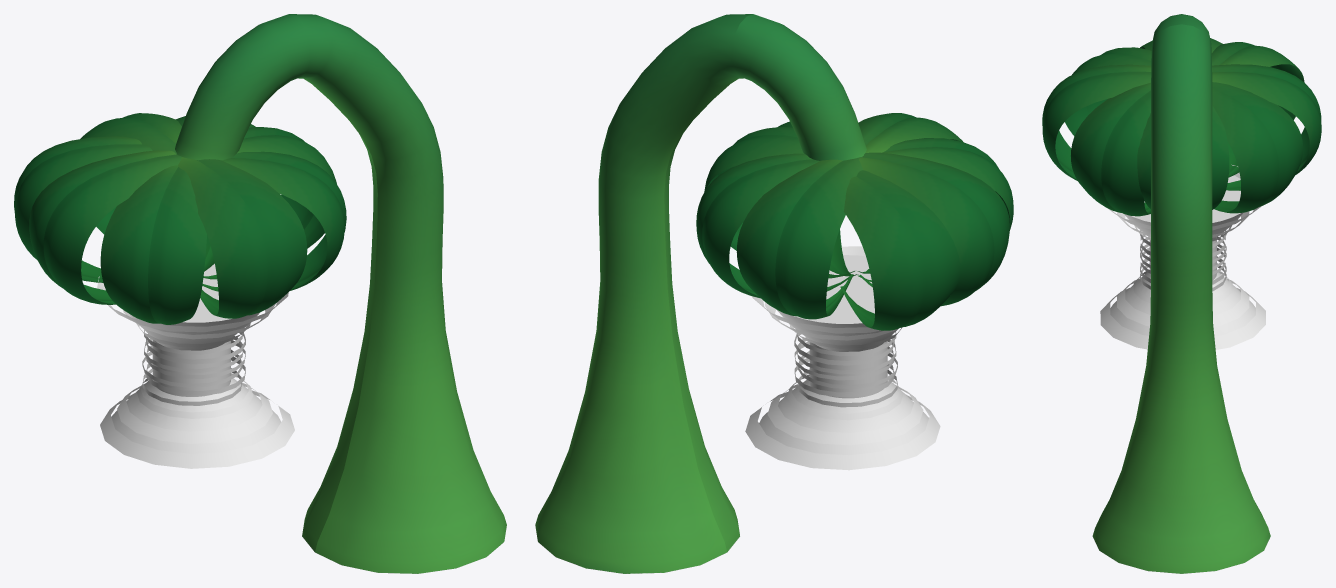
The model's file is Tornado_Flower.fbx.
3 renders of one model, left to right at view 1: azimuth 30°, elevation 25°; view 2: azimuth 150°, elevation 25°; view 3: azimuth 270°, elevation 25°, orthographic. The views are drawn at different scales.
Visible parts, largest first — view 1: TornadoBody; view 2: TornadoBody; view 3: TornadoBody.
Part boxes in pixels (x1=…): TornadoBody: x1=14, y1=14, x2=506, y2=573; TornadoBody: x1=535, y1=14, x2=1013, y2=573; TornadoBody: x1=1042, y1=14, x2=1321, y2=573.
Size of the model in its own units: 175 by 202 by 110.
Materials: 2 (1 with a texture image).
